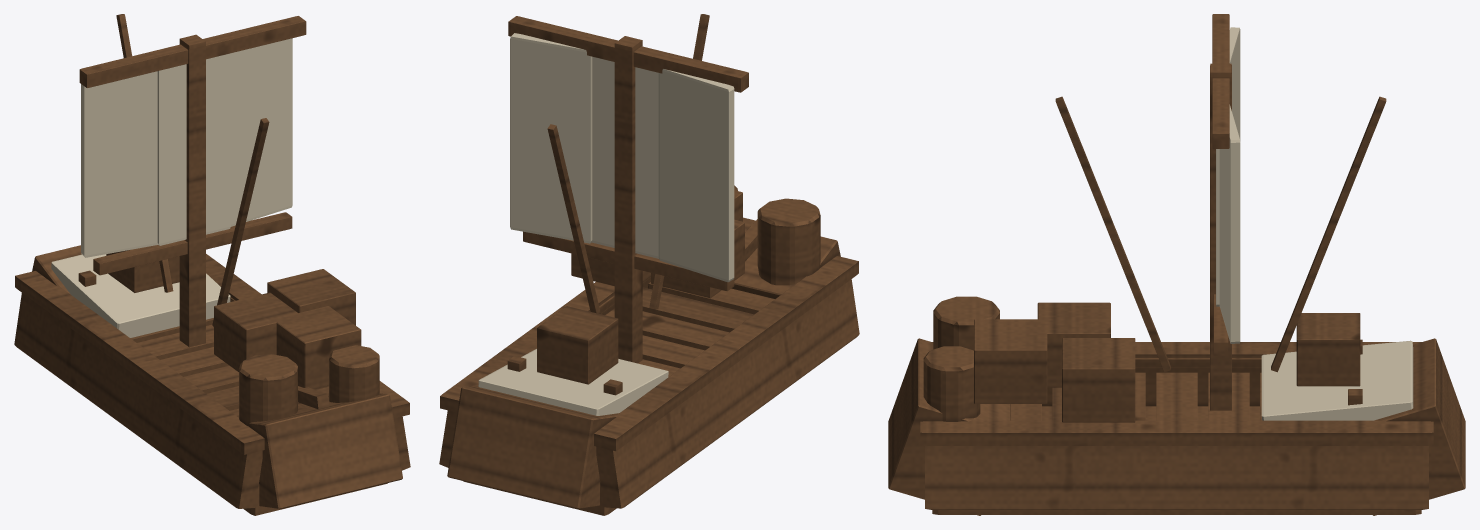
The model's file is boat.gltf.
3 renders of one model, left to right at view 1: azimuth 30°, elevation 25°; view 2: azimuth 150°, elevation 25°; view 3: azimuth 270°, elevation 25°, orthographic. The views are drawn at different scales.
Visible parts, largest first — view 1: Boat; view 2: Boat; view 3: Boat.
Part boxes in pixels (x1,y1,x2,y2): Boat: (14,14,410,515); Boat: (439,14,859,515); Boat: (888,14,1465,515).
Size of the model in its own units: 1.16 by 1.87 by 2.36.
Materials: 3 (2 with a texture image).
